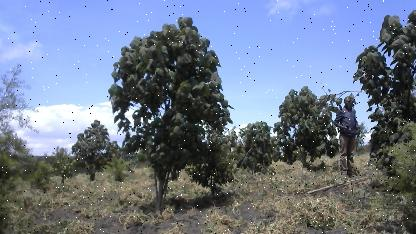tree: (102, 13, 235, 215)
